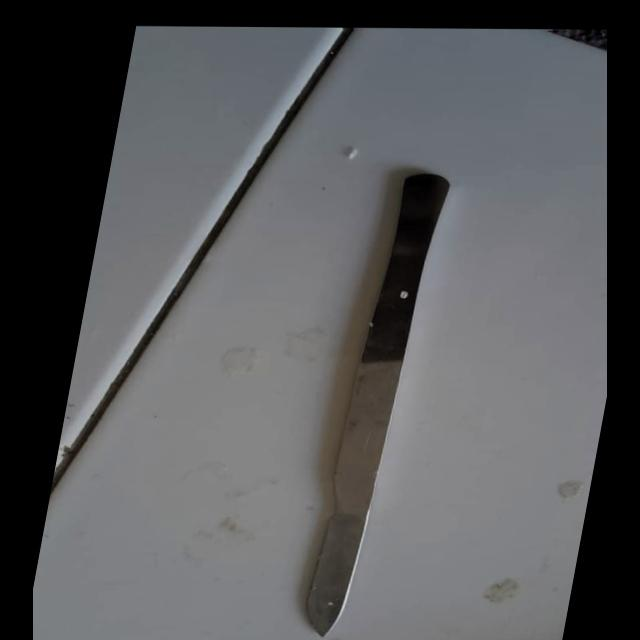Knife: (292, 163, 461, 636)
